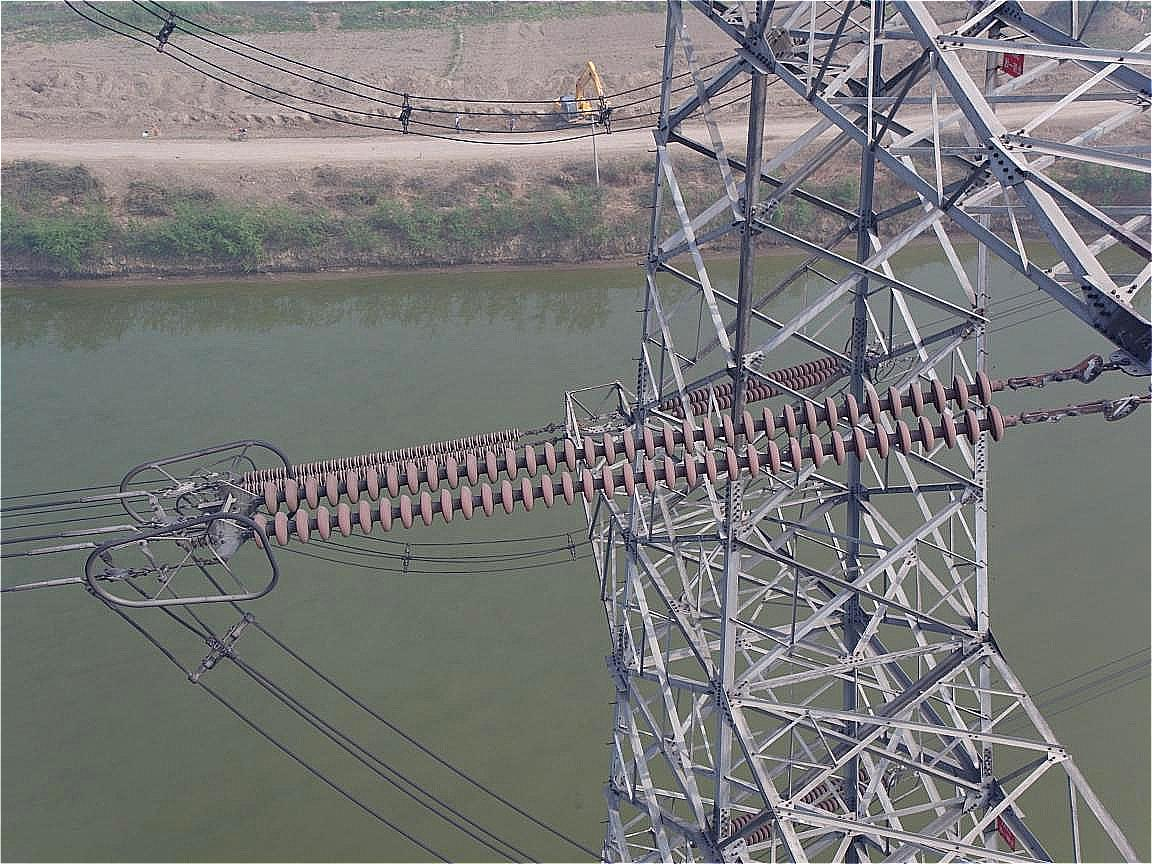insultor1: (190, 370, 1037, 552), (623, 351, 882, 426)
insultor2: (220, 419, 536, 497)
